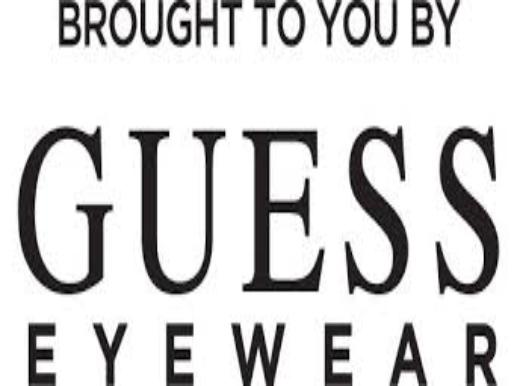GUESS: (15, 118, 512, 307)
